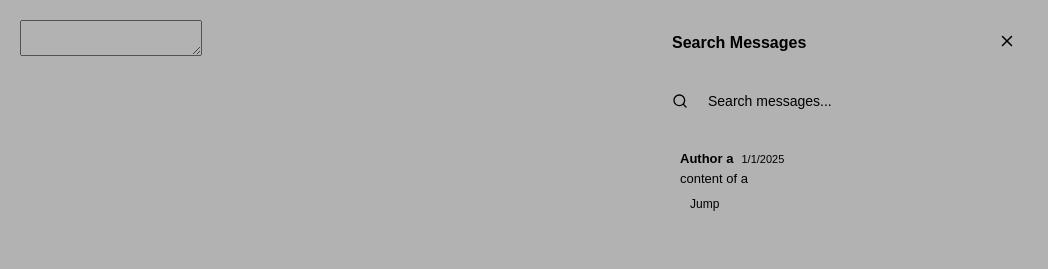
Test case: SearchPanel › Jump › F3 missing renders its exact sentence in an alert the button points at, with one status region
Step 1. Type "hello" into the field with placeholder "Search messages..." → point(858, 101), box [696,85,1020,117]
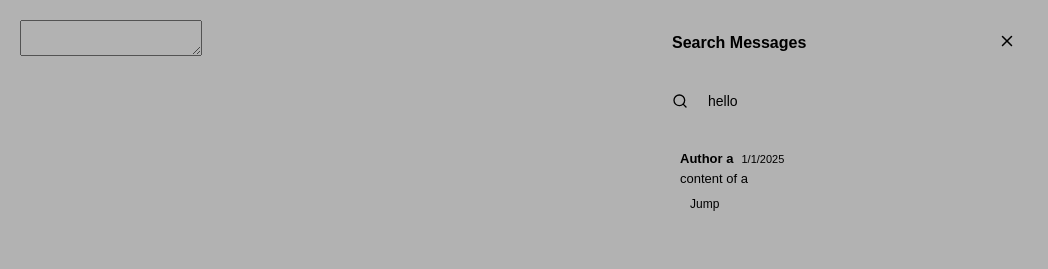
Step 2. Click the button "Jump" → point(705, 204), box [680,194,729,214]
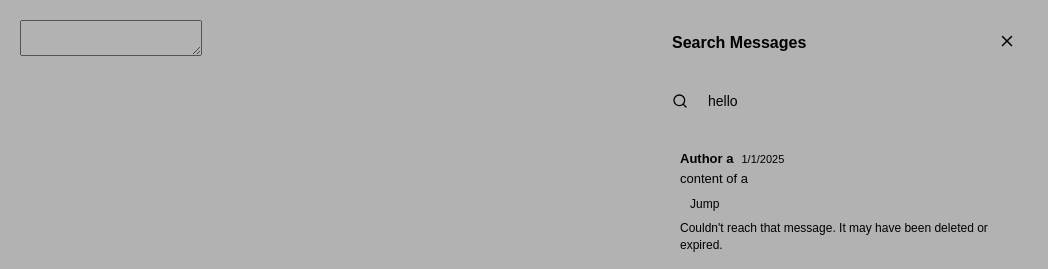
Result: the message reads "Couldn't reach that message. It may have been deleted or expired." at [680,221,988,252]
